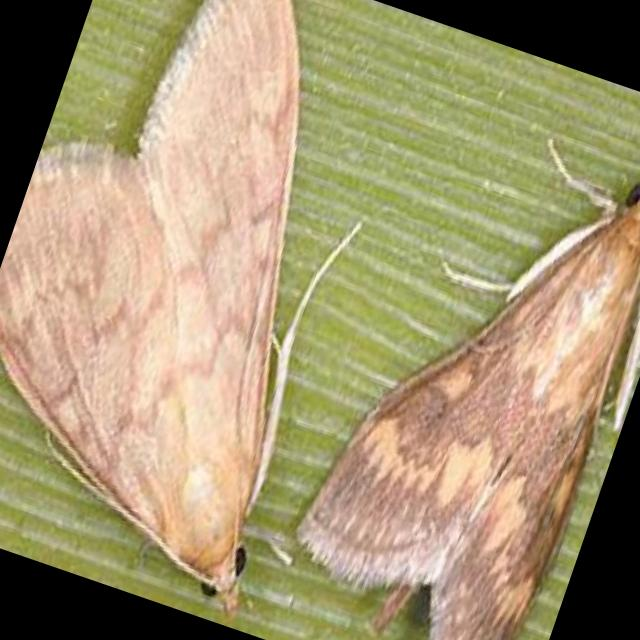stem-borer: (0, 0, 451, 632), (256, 70, 640, 640)
